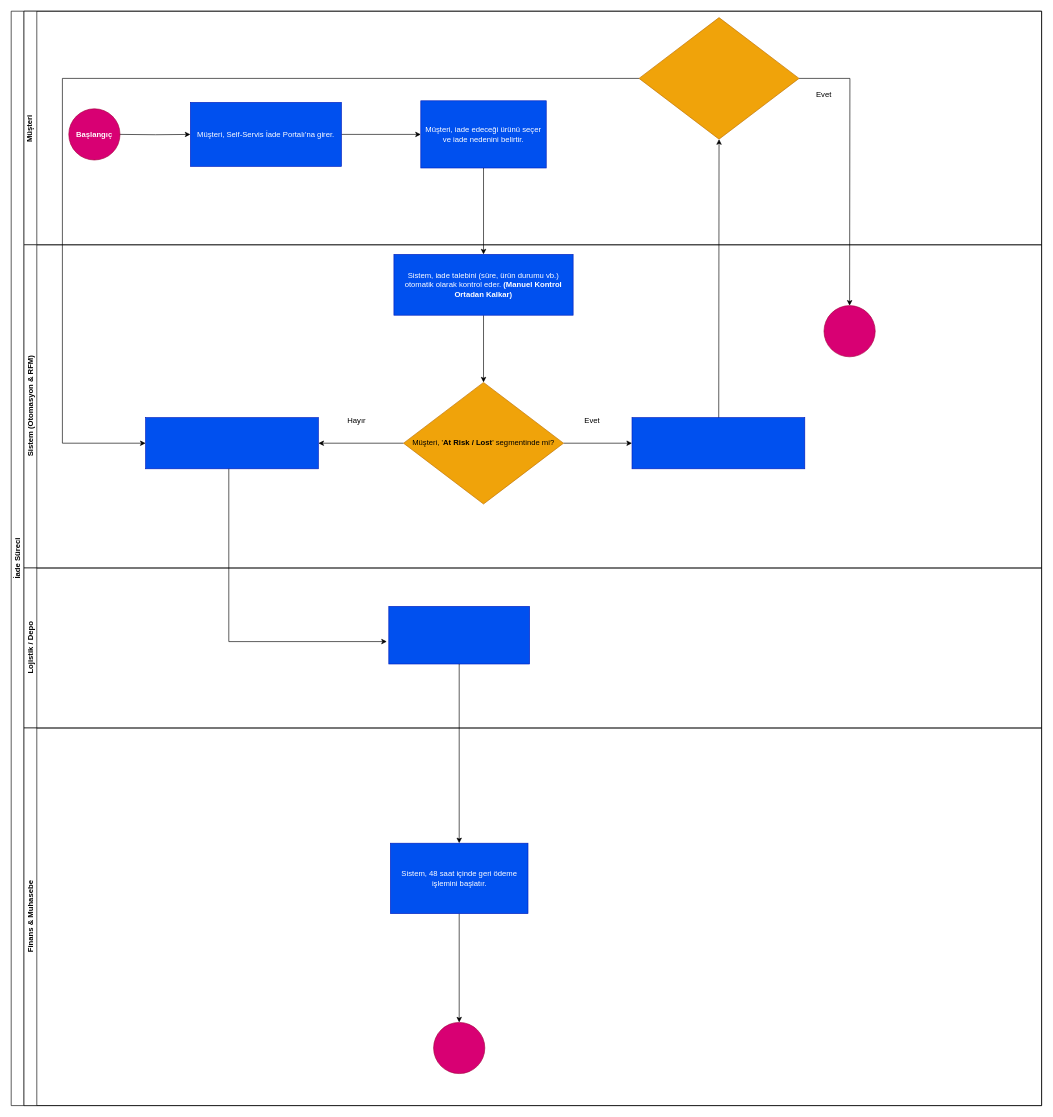
The diagram is 1053 pixels wide and 1117 high, and some of its shapes have lost their labels. Each missing label, with the centre of its shape:
"Anında Kupon Teklifi Göster" goes at [718,443].
"BİTİŞ 1 : Para Şirkette Kaldı" goes at [849,331].
"BİTİŞ 2 - Para İadesi" goes at [459,1048].
"Otomatik Kargo Etiketi (QR) Üret" goes at [231,443].
"Teklifi Kabul Etti mi?" goes at [718,78].
"Ürün Depoya ulaşır ve hasar/içerik kontrolü yapılır." goes at [459,635].
